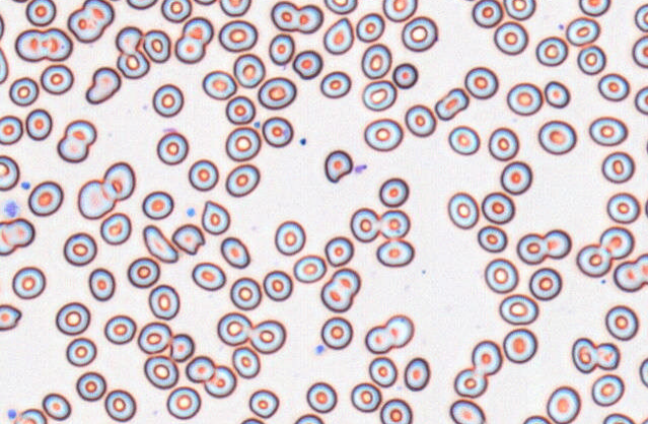PLT: (1, 199, 21, 218), (5, 407, 18, 422), (20, 178, 33, 191), (185, 206, 196, 218), (313, 344, 324, 356), (254, 119, 264, 129)
RBC: (14, 27, 72, 62), (67, 0, 114, 43), (320, 267, 360, 312), (56, 119, 96, 163), (77, 179, 116, 219), (537, 119, 576, 155), (363, 117, 403, 151), (401, 15, 438, 51), (0, 217, 35, 255), (546, 385, 581, 423), (613, 253, 647, 292), (27, 180, 63, 216), (249, 319, 286, 354), (102, 161, 135, 200), (218, 19, 257, 52), (257, 76, 296, 109), (498, 293, 538, 325), (216, 311, 252, 346), (502, 328, 537, 363), (143, 354, 178, 389), (225, 126, 260, 161), (493, 20, 528, 55), (576, 243, 612, 277), (484, 257, 518, 293), (225, 163, 260, 197), (55, 301, 90, 335), (605, 304, 638, 340), (506, 82, 542, 115), (447, 191, 478, 229), (588, 116, 627, 146), (63, 232, 97, 266), (599, 226, 634, 259), (166, 386, 201, 419), (323, 17, 354, 54), (203, 364, 236, 398), (137, 321, 171, 354), (528, 267, 562, 300), (11, 266, 45, 299), (481, 191, 515, 224), (464, 66, 498, 99), (233, 53, 265, 88), (500, 160, 532, 195), (471, 339, 502, 375), (148, 284, 179, 320), (376, 238, 414, 267), (591, 373, 624, 406), (104, 388, 136, 422), (229, 276, 261, 310), (601, 151, 635, 183), (156, 131, 188, 165), (606, 192, 640, 224), (404, 103, 436, 137), (362, 79, 396, 111), (349, 207, 380, 242), (274, 220, 305, 255), (361, 43, 391, 79), (99, 212, 131, 245), (320, 316, 352, 349), (127, 256, 160, 288), (453, 367, 487, 398), (152, 83, 183, 117), (488, 126, 519, 160), (565, 16, 600, 46), (40, 63, 73, 94), (202, 70, 236, 100), (191, 261, 225, 291), (201, 199, 230, 234), (516, 232, 547, 264), (306, 381, 337, 413), (261, 116, 293, 147), (384, 314, 414, 347), (103, 314, 136, 344), (188, 158, 218, 191), (535, 36, 568, 66), (571, 337, 598, 373), (220, 236, 250, 268), (262, 269, 292, 301), (448, 125, 480, 155), (116, 50, 149, 79), (142, 29, 171, 62), (293, 254, 326, 283), (8, 76, 39, 106), (248, 388, 279, 418), (350, 382, 381, 412), (75, 371, 106, 401), (181, 16, 213, 45), (231, 346, 260, 378), (324, 235, 353, 267), (141, 190, 173, 219), (597, 72, 629, 101), (403, 357, 430, 391), (88, 267, 115, 301), (379, 209, 409, 239), (378, 177, 408, 207), (270, 0, 299, 31), (368, 356, 397, 387), (65, 337, 96, 366), (225, 95, 255, 124), (355, 12, 384, 42), (577, 45, 606, 75), (174, 35, 205, 63), (543, 228, 571, 259), (471, 0, 502, 28), (320, 70, 351, 98), (449, 399, 485, 423), (25, 108, 52, 140), (364, 325, 393, 354), (185, 355, 215, 383), (268, 33, 294, 65), (379, 398, 412, 423), (42, 392, 71, 420), (477, 225, 507, 252), (25, 0, 56, 26), (382, 0, 417, 22), (543, 80, 570, 108), (297, 4, 323, 33), (169, 332, 194, 362), (0, 114, 23, 145), (0, 154, 19, 191), (392, 62, 418, 89), (160, 0, 191, 22), (596, 342, 620, 370), (503, 0, 535, 20), (0, 303, 21, 330), (219, 0, 251, 16), (578, 0, 610, 16), (632, 35, 647, 68), (323, 0, 357, 14), (16, 408, 47, 423), (634, 85, 647, 115), (634, 3, 647, 32), (602, 412, 635, 423), (294, 413, 324, 423), (0, 47, 8, 84), (126, 0, 157, 9), (522, 414, 550, 423), (639, 357, 647, 387), (240, 417, 265, 423), (0, 12, 5, 39), (193, 0, 216, 5), (644, 197, 648, 218), (11, 0, 28, 3)
Schistocyte: (142, 225, 179, 263), (171, 223, 207, 256), (324, 150, 354, 185), (292, 49, 325, 80), (115, 24, 144, 57)
